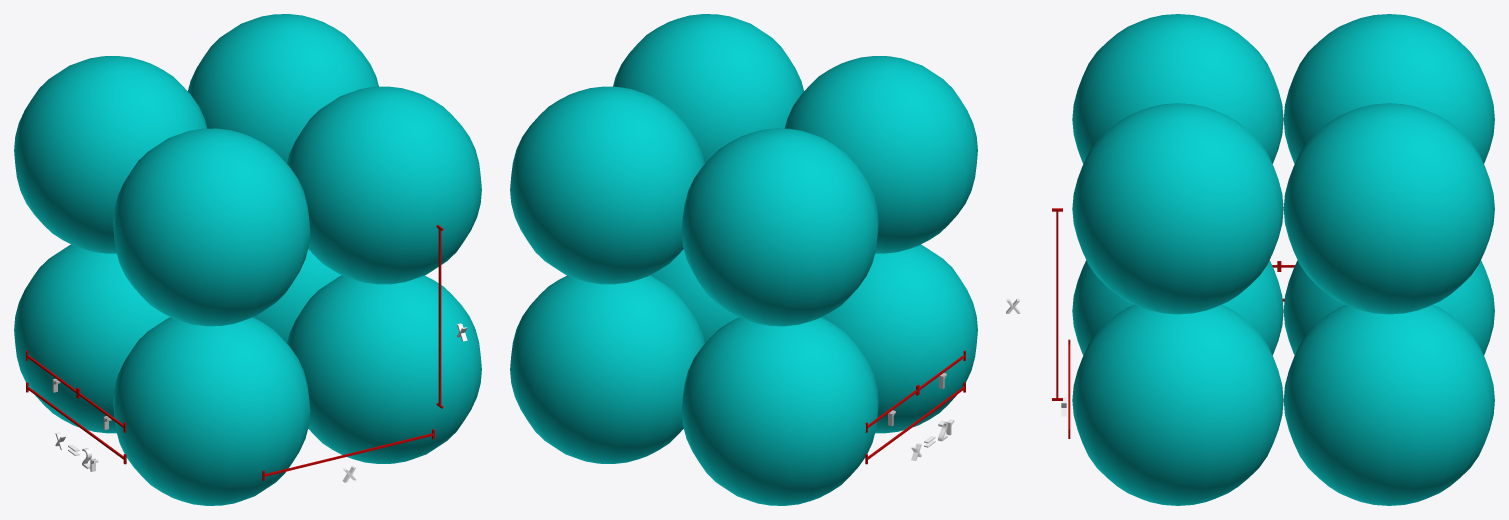
The model's file is SCFE_centrado.glb.
3 views of the same model, side by side, from view 1: azimuth 30°, elevation 25°; view 2: azimuth 150°, elevation 25°; view 3: azimuth 270°, elevation 25° (orthographic). The views are drawn at different scales.
Parts seen in each view (by area): view 1: atomo9; view 2: atomo9; view 3: atomo9.
Part boxes in pixels (x1=…): atomo9: x1=14, y1=14, x2=481, y2=505; atomo9: x1=510, y1=14, x2=977, y2=505; atomo9: x1=1006, y1=14, x2=1494, y2=505.
Size of the model in its own units: 2.06 by 2 by 2.31.
